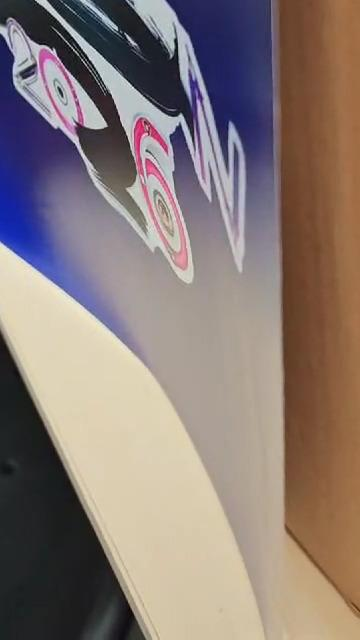B_R1: (0, 0, 282, 348)
